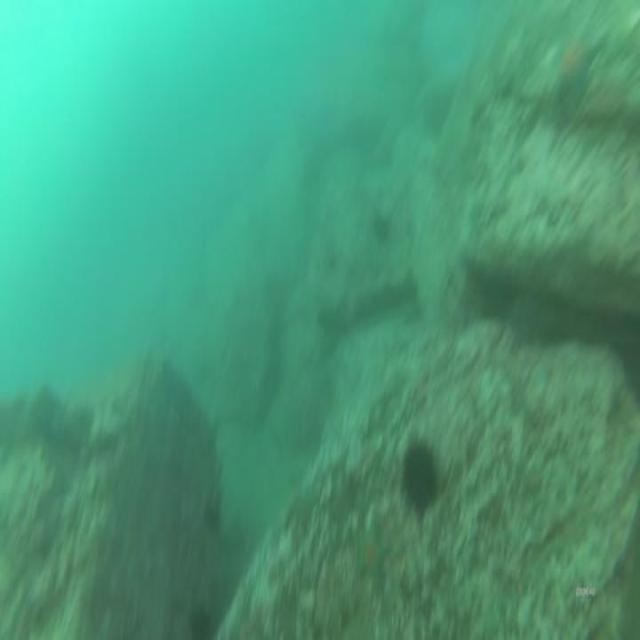echinus: (399, 434, 444, 518)
starfish: (550, 29, 600, 104), (353, 516, 395, 592)
